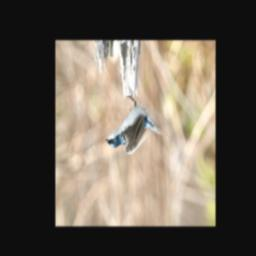Swallow: (104, 94, 170, 156)
